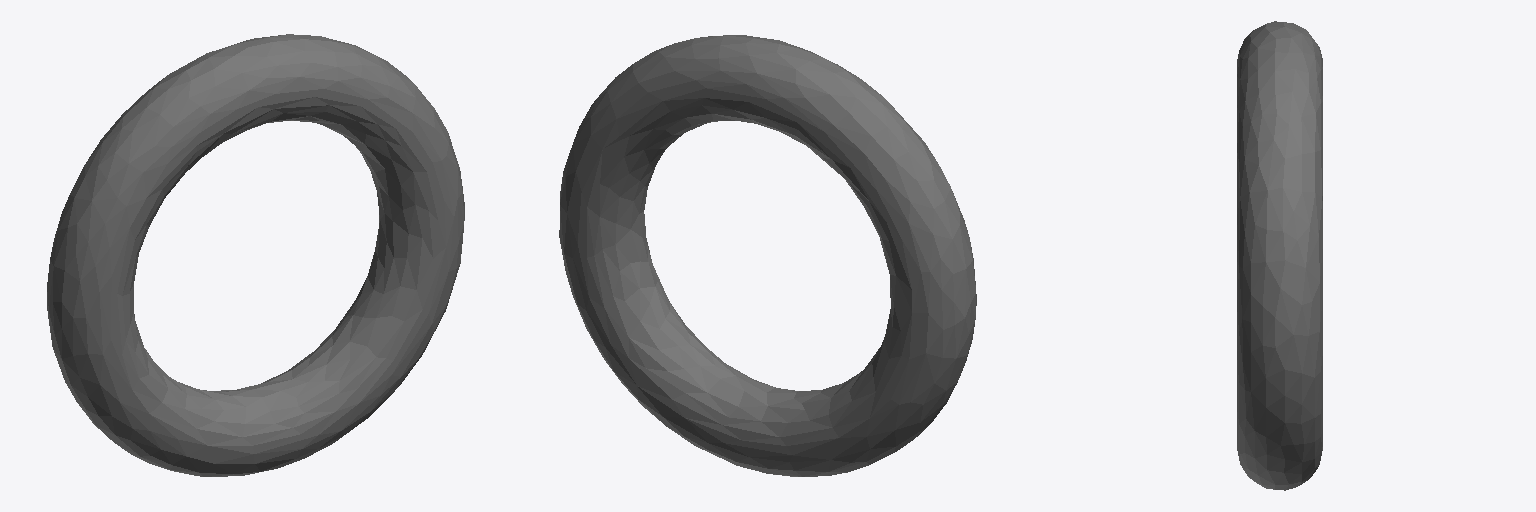
Rendered from tunnel_2.obj.
3 renders of one model, left to right at view 1: azimuth 30°, elevation 25°; view 2: azimuth 150°, elevation 25°; view 3: azimuth 270°, elevation 25°, orthographic.
Size of the model in its own units: 9.81 by 9.8 by 1.81.